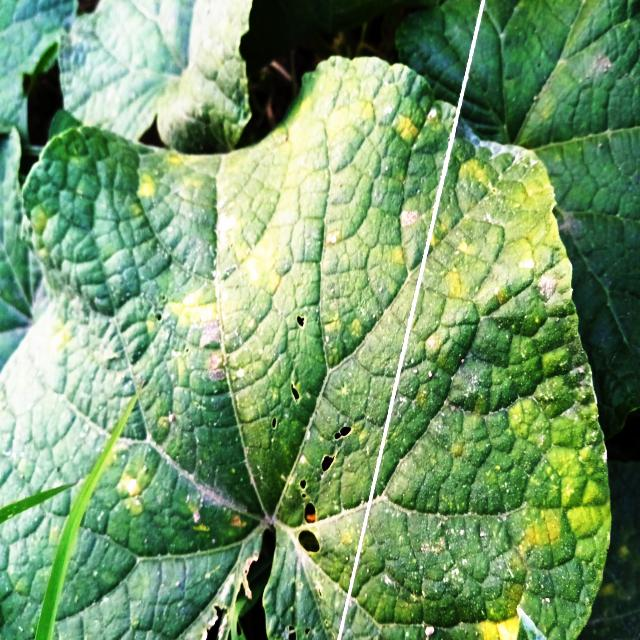Downy-Mildew: (0, 51, 611, 640)
